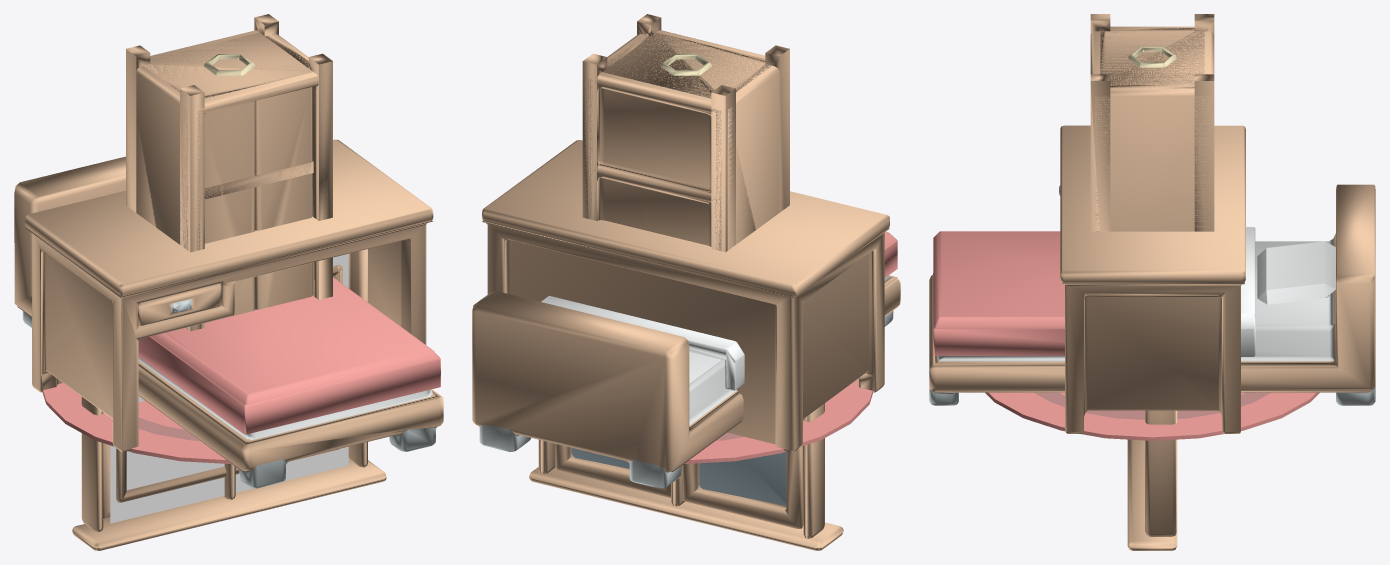
The model's file is lobby-furniture.glb.
The picture shows the model from 3 angles, left to right: view 1: azimuth 30°, elevation 25°; view 2: azimuth 150°, elevation 25°; view 3: azimuth 270°, elevation 25°; orthographic projection. The views are drawn at different scales.
Parts seen in each view (by area): view 1: desk_desk(Clone), bed_cover, bed_bedSingle(Clone), bookcase_bookcaseOpen(Clone), wardrobe_bookcaseClosedDoors(Clone), wardrobe_doorRight, window_win_sill, wardrobe_doorLeft, windowView_windowView, rug_rugRound(Clone), window_win_left, desk_drawer (+5 smaller); view 2: desk_desk(Clone), bed_bedSingle(Clone), wardrobe_bookcaseClosedDoors(Clone), bookcase_bookcaseOpen(Clone), window_windowBottom, window_win_sill, rug_rugRound(Clone), bed_cover, window_windowBottom.001, window_win_left, floorLamp_lampRoundFloor(Clone), window_win_right; view 3: desk_desk(Clone), bed_bedSingle(Clone), wardrobe_bookcaseClosedDoors(Clone), bed_cover, bookcase_bookcaseOpen(Clone), rug_rugRound(Clone), bed_pillow, window_win_right, window_win_sill, floorLamp_lampRoundFloor(Clone).
Boxes of the visible parts, bbox=[...] form: desk_desk(Clone): bbox=[25, 139, 433, 452]; bed_cover: bbox=[138, 277, 440, 434]; bed_bedSingle(Clone): bbox=[14, 156, 443, 488]; bookcase_bookcaseOpen(Clone): bbox=[126, 14, 332, 331]; wardrobe_bookcaseClosedDoors(Clone): bbox=[136, 30, 328, 329]; wardrobe_doorRight: bbox=[255, 87, 312, 309]; window_win_sill: bbox=[72, 459, 386, 550]; wardrobe_doorLeft: bbox=[204, 101, 255, 315]; windowView_windowView: bbox=[110, 253, 348, 523]; rug_rugRound(Clone): bbox=[42, 383, 331, 463]; window_win_left: bbox=[81, 397, 103, 531]; desk_drawer: bbox=[138, 284, 221, 325]; desk_desk(Clone): bbox=[482, 140, 889, 452]; bed_bedSingle(Clone): bbox=[472, 275, 900, 488]; wardrobe_bookcaseClosedDoors(Clone): bbox=[584, 30, 779, 251]; bookcase_bookcaseOpen(Clone): bbox=[582, 14, 789, 252]; window_windowBottom: bbox=[683, 446, 803, 528]; window_win_sill: bbox=[529, 467, 843, 550]; rug_rugRound(Clone): bbox=[585, 379, 872, 463]; bed_cover: bbox=[541, 231, 897, 390]; window_windowBottom.001: bbox=[555, 444, 670, 497]; window_win_left: bbox=[803, 403, 824, 538]; floorLamp_lampRoundFloor(Clone): bbox=[660, 54, 711, 75]; window_win_right: bbox=[538, 440, 555, 473]; desk_desk(Clone): bbox=[1060, 125, 1245, 433]; bed_bedSingle(Clone): bbox=[929, 184, 1375, 405]; wardrobe_bookcaseClosedDoors(Clone): bbox=[1090, 26, 1214, 231]; bed_cover: bbox=[933, 226, 1255, 356]; bookcase_bookcaseOpen(Clone): bbox=[1090, 14, 1214, 231]; rug_rugRound(Clone): bbox=[985, 392, 1319, 440]; bed_pillow: bbox=[1257, 241, 1335, 304]; window_win_right: bbox=[1145, 410, 1177, 536]; window_win_sill: bbox=[1127, 439, 1177, 550]; floorLamp_lampRoundFloor(Clone): bbox=[1128, 46, 1176, 67].
Size of the model in its own units: 2.58 by 3.4 by 3.15.
